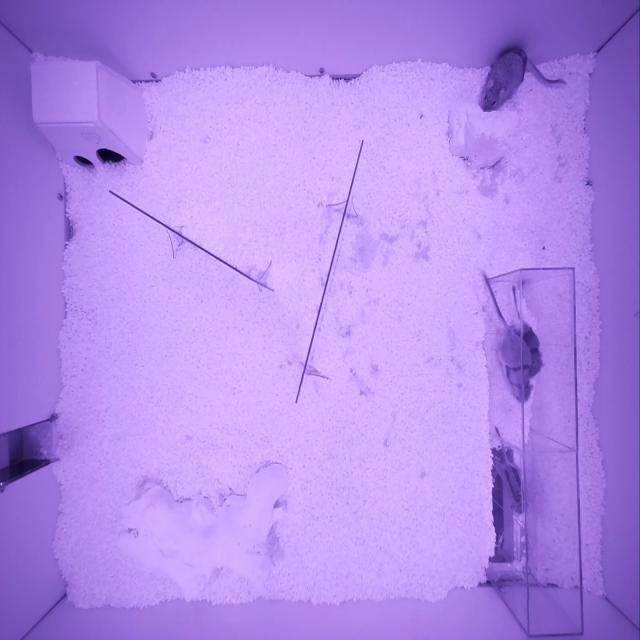adult_back: (480, 48, 527, 113)
adult_front: (500, 329, 535, 403)
pup_h_stripe: (523, 323, 546, 379)
pup_v_stripe: (494, 460, 529, 514)
